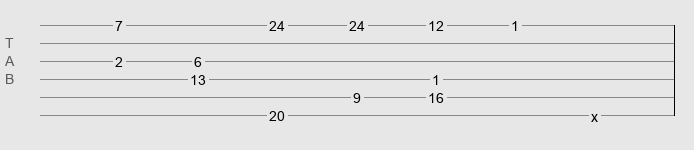1: (432, 72, 440, 82), (511, 18, 519, 28)
12: (428, 18, 444, 28)
13: (190, 72, 206, 82)
16: (428, 90, 444, 100)
2: (115, 54, 123, 64)
20: (269, 108, 285, 118)
24: (269, 18, 285, 28), (349, 18, 365, 28)
6: (194, 54, 202, 64)
7: (115, 18, 123, 28)
9: (353, 90, 361, 100)
x: (591, 109, 598, 117)
